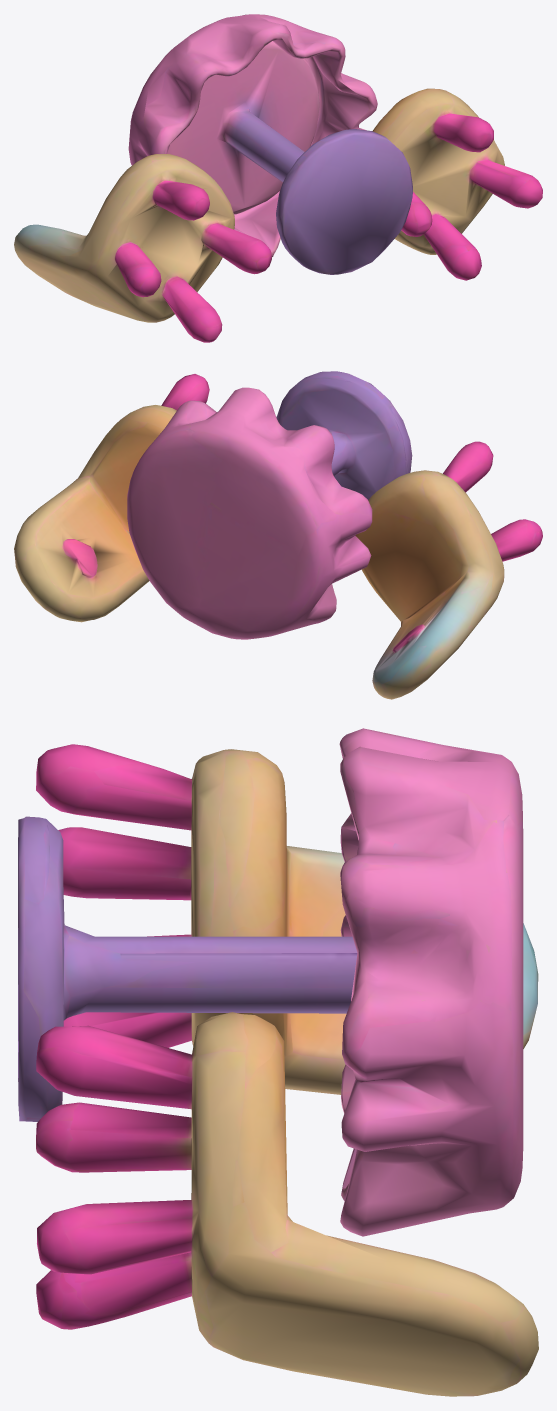
3 renders of one model, top to bottom at view 1: azimuth 30°, elevation 25°; view 2: azimuth 150°, elevation 25°; view 3: azimuth 270°, elevation 25°, orthographic. The views are drawn at different scales.
Visible parts, largest first — view 1: material; view 2: material; view 3: material.
Part boxes in pixels (bbox=[...]): material: bbox=[14, 14, 542, 342]; material: bbox=[14, 371, 542, 699]; material: bbox=[18, 728, 538, 1396].
Bounding box in the file's own units: 1 × 0.5437 × 0.5123.
Materials: 1 (1 with a texture image).
